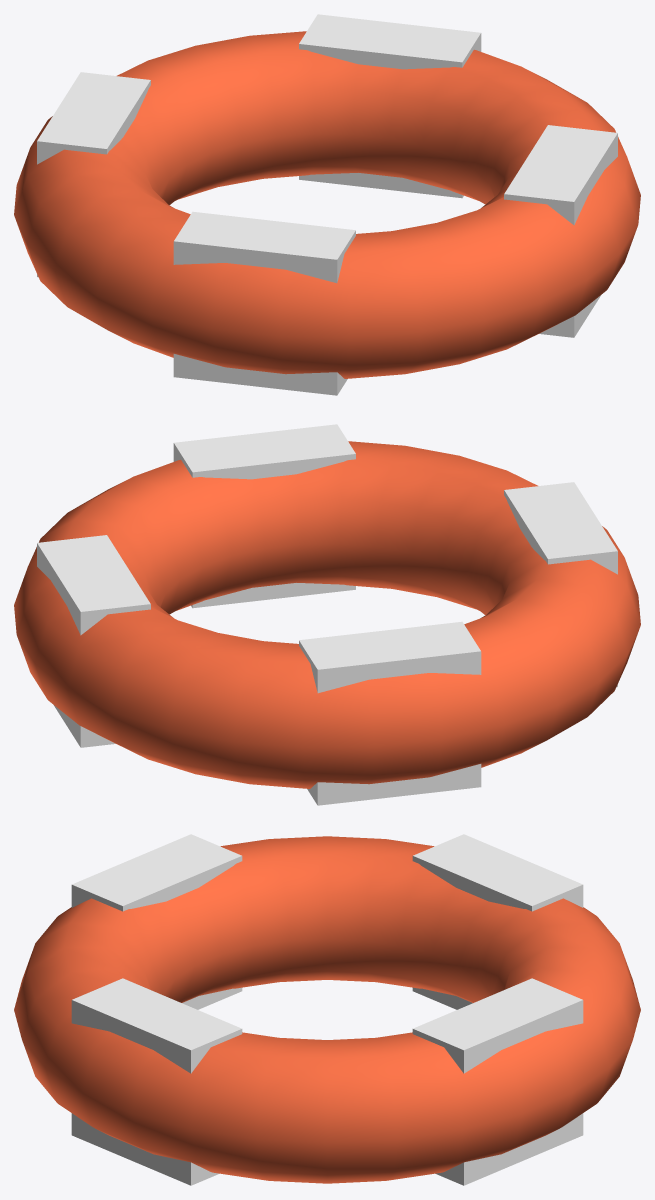
The model's file is journey_floatie.glb.
3 renders of one model, top to bottom at view 1: azimuth 30°, elevation 25°; view 2: azimuth 150°, elevation 25°; view 3: azimuth 270°, elevation 25°, orthographic.
Visible parts, largest first — view 1: Floatie_body; view 2: Floatie_body; view 3: Floatie_body.
Part boxes in pixels (bbox=[...]): Floatie_body: bbox=[14, 14, 640, 395]; Floatie_body: bbox=[14, 424, 640, 805]; Floatie_body: bbox=[14, 834, 640, 1185].
Bounding box in the file's own units: 2.6 × 0.62 × 2.6.
